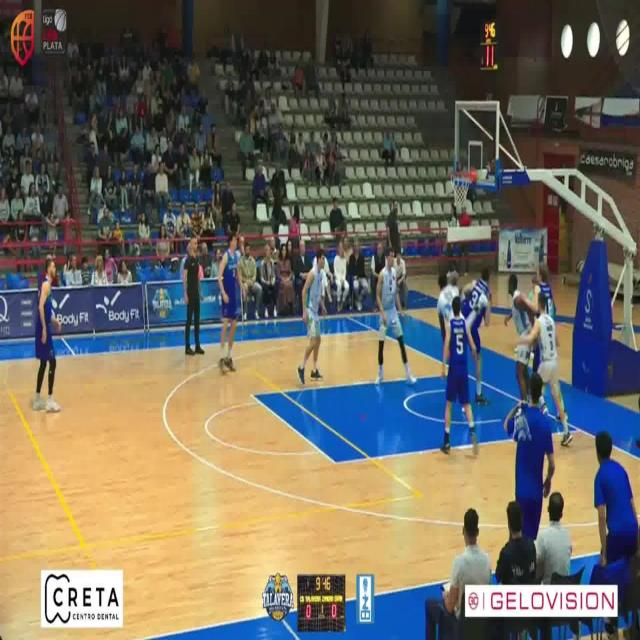basket: (453, 170, 472, 212)
bench person: (504, 372, 556, 540), (595, 431, 640, 566)
player: (520, 292, 573, 446), (442, 295, 479, 455), (375, 248, 417, 385), (32, 254, 60, 412), (462, 266, 492, 405), (298, 246, 327, 384), (218, 232, 239, 373), (505, 272, 538, 337), (438, 270, 460, 339), (533, 263, 557, 319)
referee: (182, 236, 204, 354)
